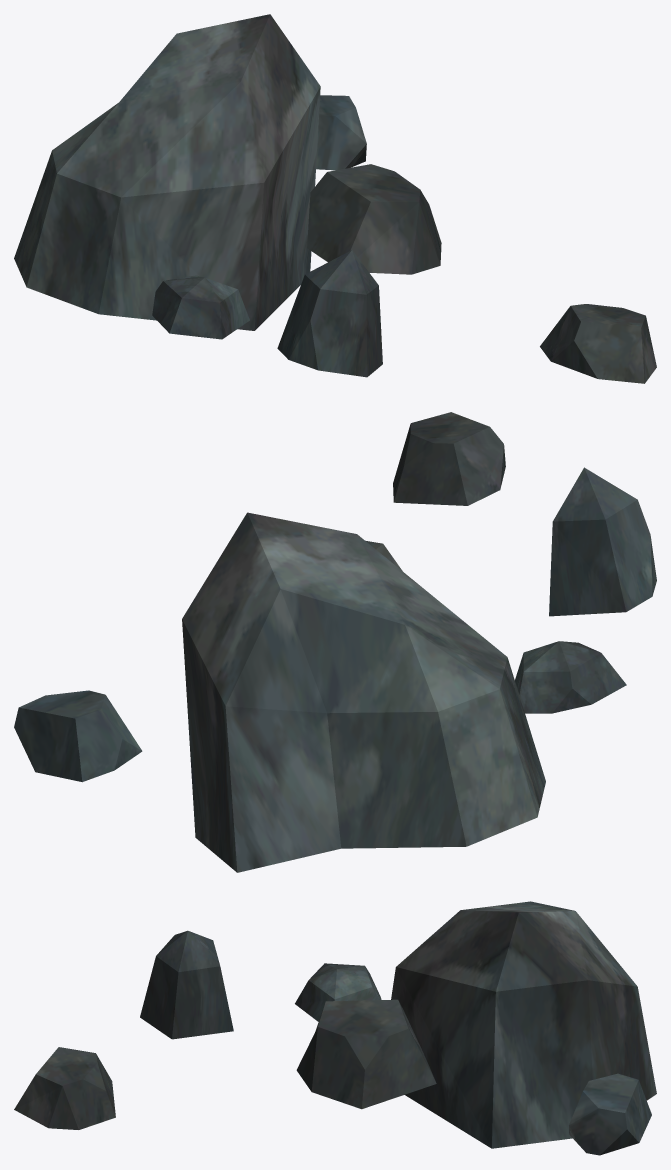
Rendered from object_rubble24.fbx.
3 renders of one model, top to bottom at view 1: azimuth 30°, elevation 25°; view 2: azimuth 150°, elevation 25°; view 3: azimuth 270°, elevation 25°, orthographic. The views are drawn at different scales.
Visible parts, largest first — view 1: obj0.098; view 2: obj0.098; view 3: obj0.098.
Boxes of the visible parts, bbox=[...] form: obj0.098: bbox=[14, 14, 656, 383]; obj0.098: bbox=[14, 412, 656, 872]; obj0.098: bbox=[14, 901, 656, 1155].
Bounding box in the file's own units: 2.02 × 1.27 × 3.28.
